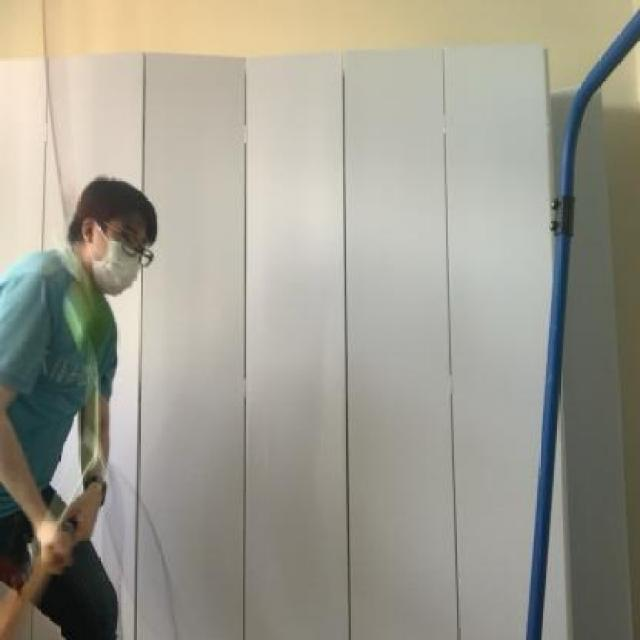baseball: (59, 277, 127, 361)
